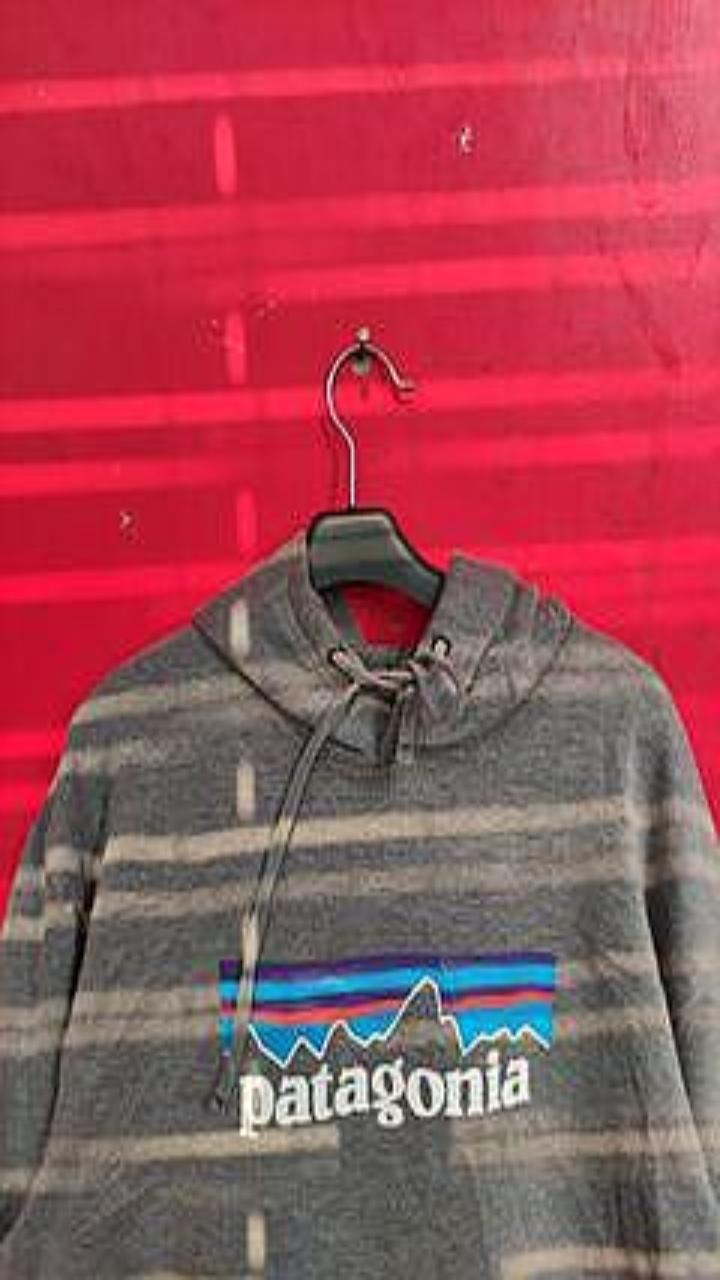Hoodie: (0, 530, 719, 1279)
